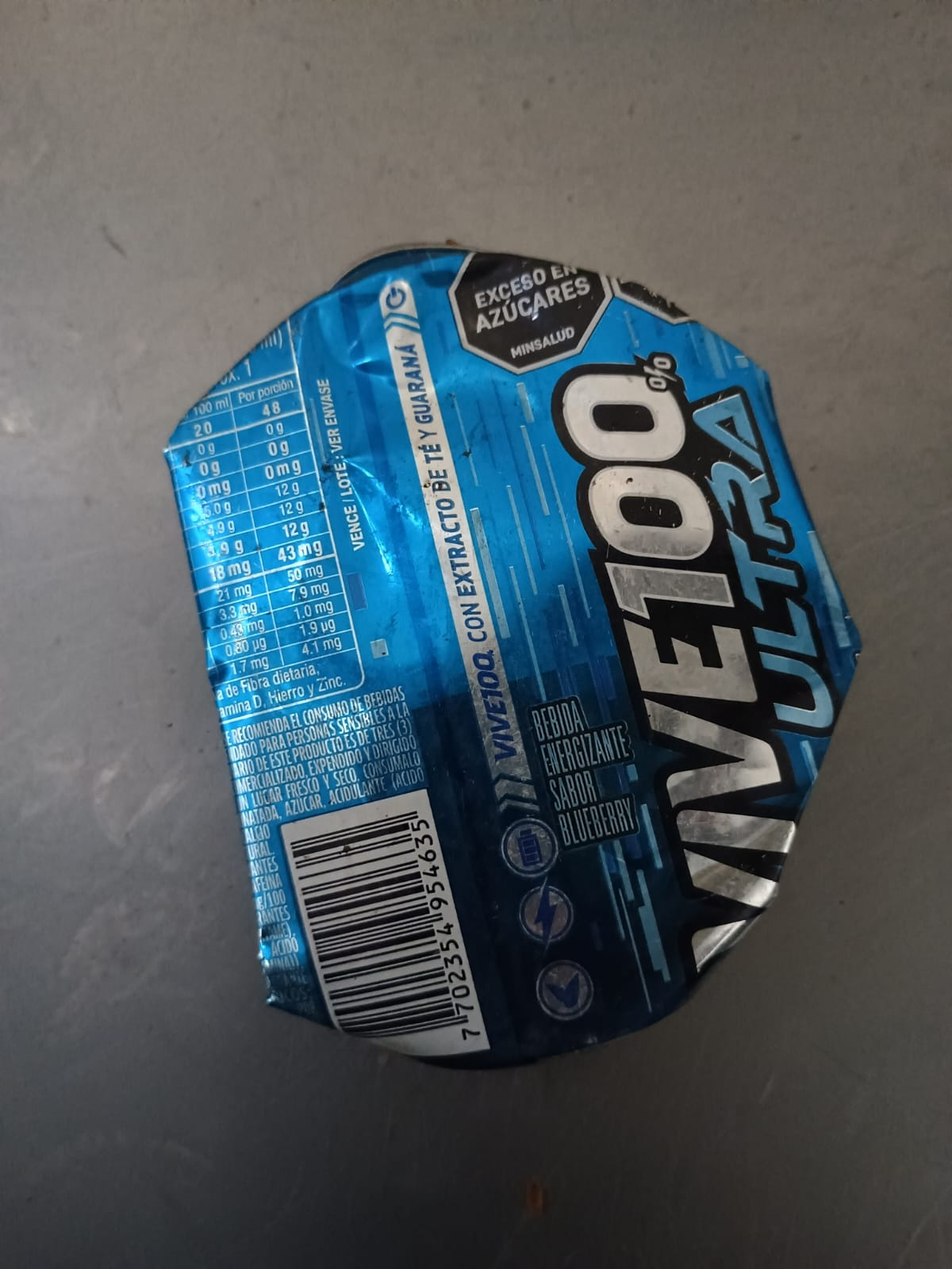Metal: (158, 242, 867, 1071)
